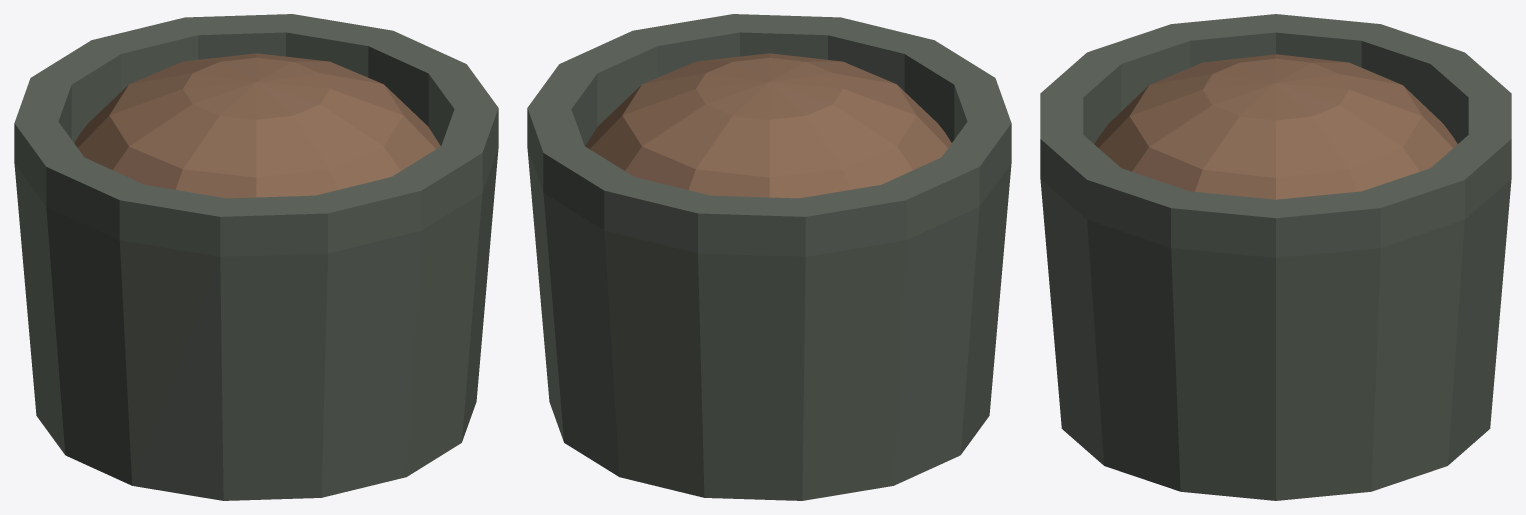
Rendered from oc_plant_pot.obj.
The picture shows the model from 3 angles, left to right: view 1: azimuth 30°, elevation 25°; view 2: azimuth 150°, elevation 25°; view 3: azimuth 270°, elevation 25°; orthographic projection.
Visible parts, largest first — view 1: oc_plant_pot_0, oc_plant_pot_1; view 2: oc_plant_pot_0, oc_plant_pot_1; view 3: oc_plant_pot_0, oc_plant_pot_1.
Boxes of the visible parts, box(x1,y1,x2,y2) form: oc_plant_pot_0: box(14, 14, 498, 500); oc_plant_pot_1: box(74, 53, 440, 198); oc_plant_pot_0: box(527, 14, 1011, 500); oc_plant_pot_1: box(585, 53, 951, 198); oc_plant_pot_0: box(1040, 14, 1511, 500); oc_plant_pot_1: box(1094, 54, 1457, 199).
Bounding box in the file's own units: 0.66 × 0.49 × 0.6434.
